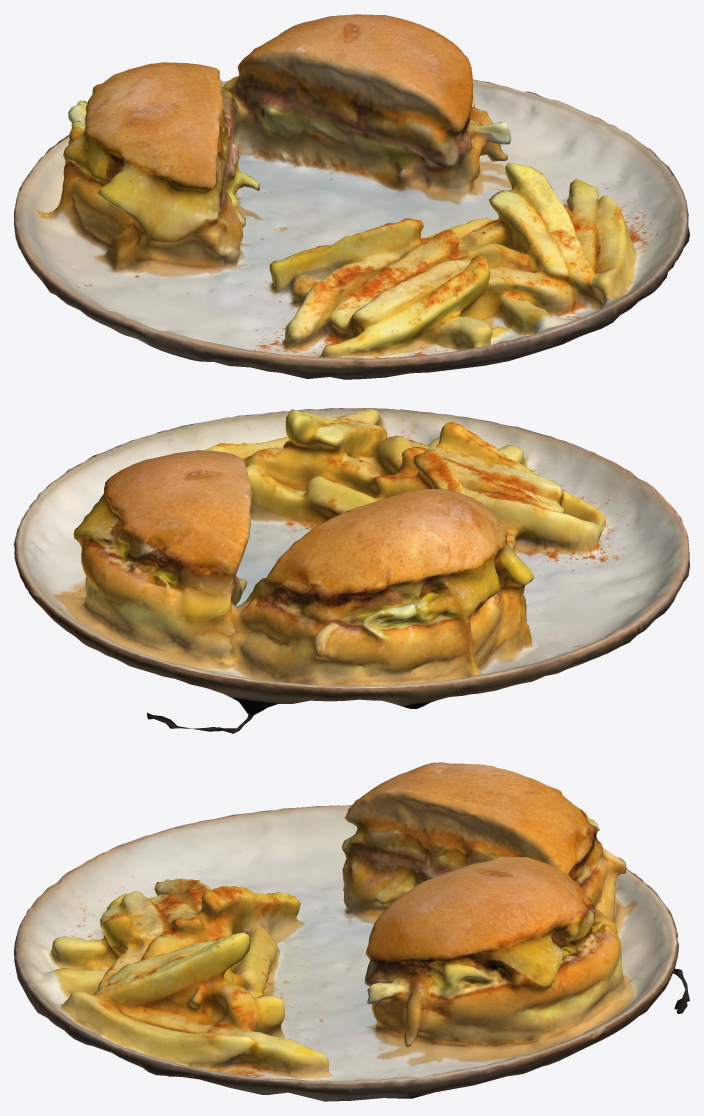
File: le forestier 9.glb
3 views of the same model, one above another, from view 1: azimuth 30°, elevation 25°; view 2: azimuth 150°, elevation 25°; view 3: azimuth 270°, elevation 25° (orthographic).
Parts seen in each view (by area): view 1: ObjectCapture; view 2: ObjectCapture; view 3: ObjectCapture.
Part boxes in pixels (bbox=[...]): ObjectCapture: bbox=[14, 14, 689, 379]; ObjectCapture: bbox=[14, 408, 689, 733]; ObjectCapture: bbox=[14, 762, 689, 1101].
Size of the model in its own units: 0.2494 by 0.068 by 0.2535.
1 material, 1 textured.
